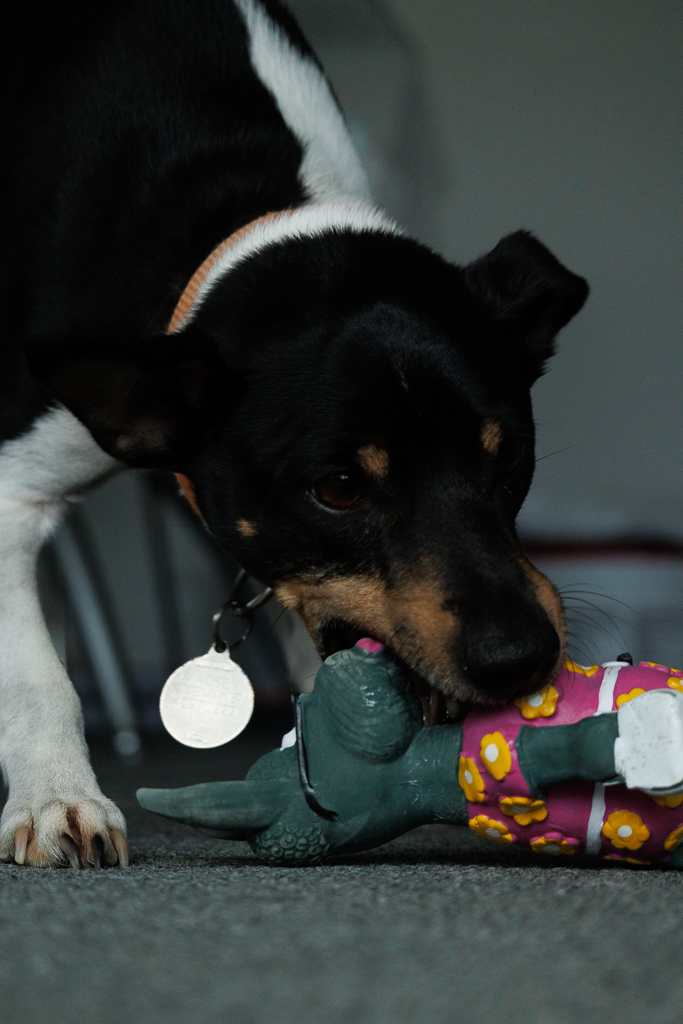Dog: (0, 0, 653, 886)
Humanoid: (124, 628, 683, 866)
